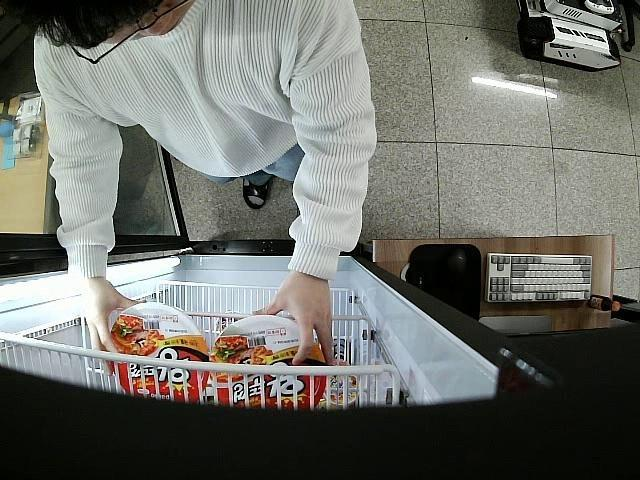10_wangTtukkeong: (211, 315, 324, 410), (108, 301, 207, 400)
